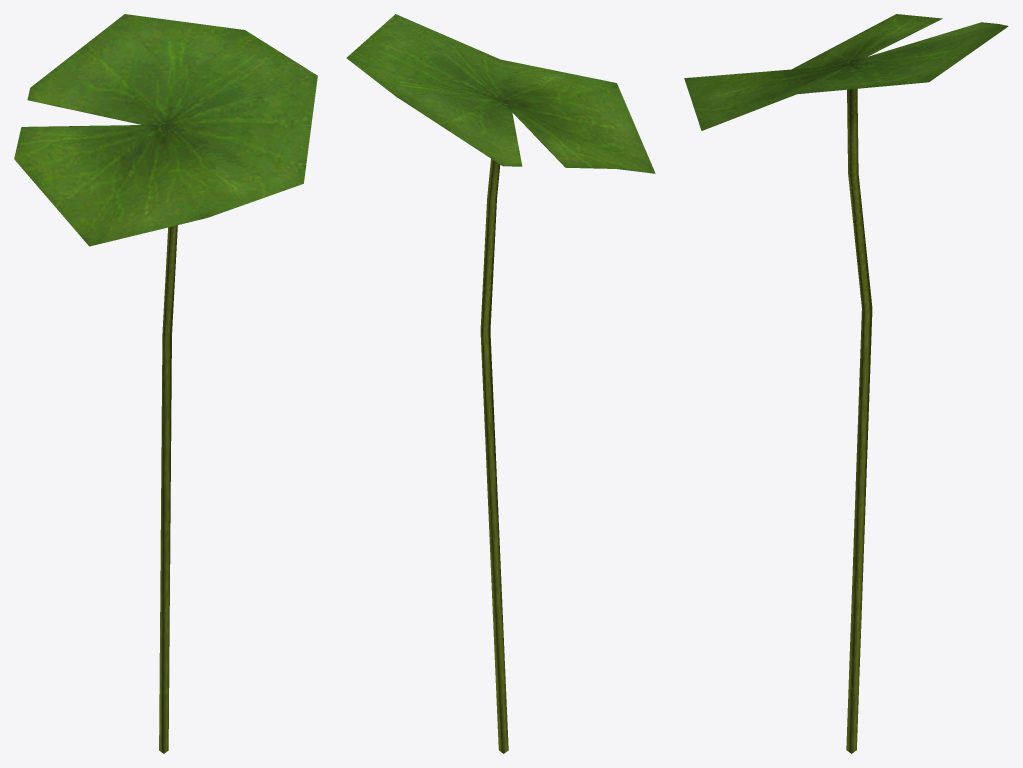
Rendered from lotusflower_02.fbx.
The picture shows the model from 3 angles, left to right: view 1: azimuth 30°, elevation 25°; view 2: azimuth 150°, elevation 25°; view 3: azimuth 270°, elevation 25°; orthographic projection. The views are drawn at different scales.
Parts seen in each view (by area): view 1: lotusflower_02; view 2: lotusflower_02; view 3: lotusflower_02.
Part boxes in pixels (x1,y1,x2,y2): lotusflower_02: (14, 14, 317, 753); lotusflower_02: (346, 14, 655, 753); lotusflower_02: (684, 14, 1008, 753).
Size of the model in its own units: 0.6729 by 1.68 by 0.6669.
